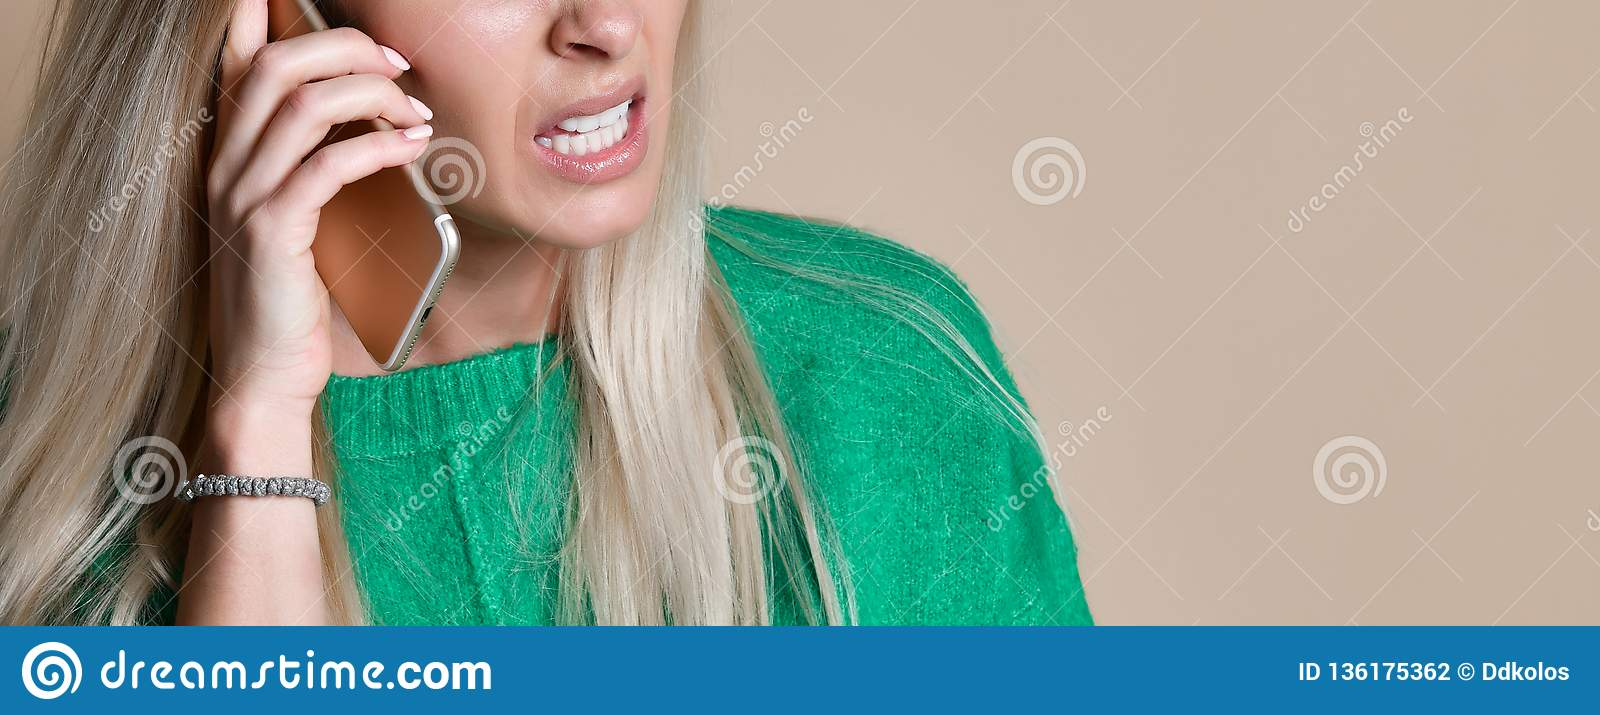phone: (262, 1, 467, 376)
